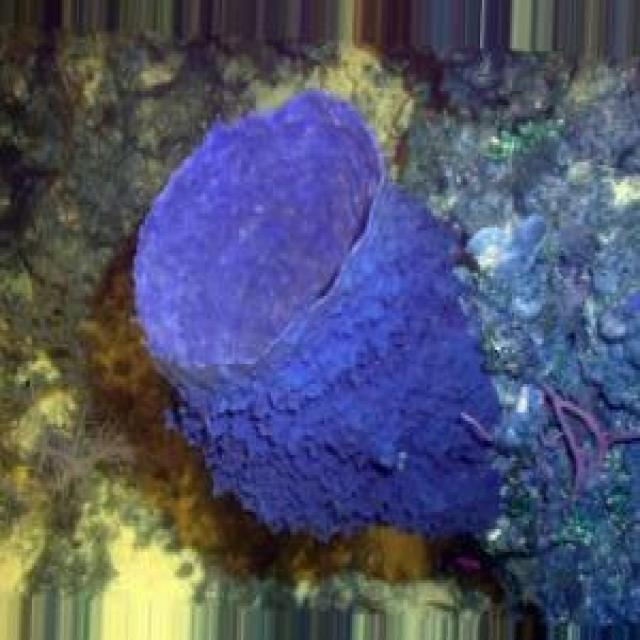Healthy: (131, 92, 502, 544)
